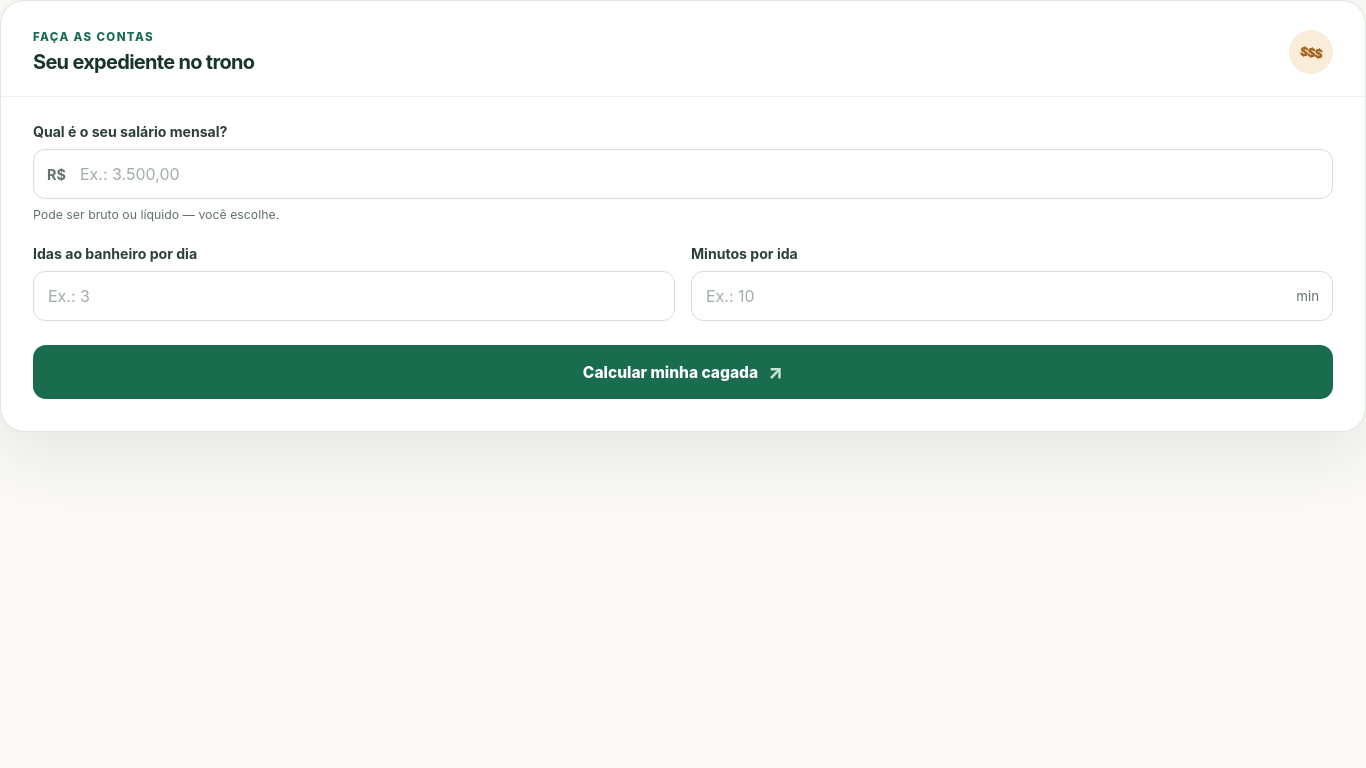
Test: Calculator › clears old results as soon as a field is edited
The image size is (1366, 768).
Type "3520" into the number field labelled "Qual é o seu salário mensal?" at x=683, y=174, box top-left (33, 149), bottom-right (1333, 199)
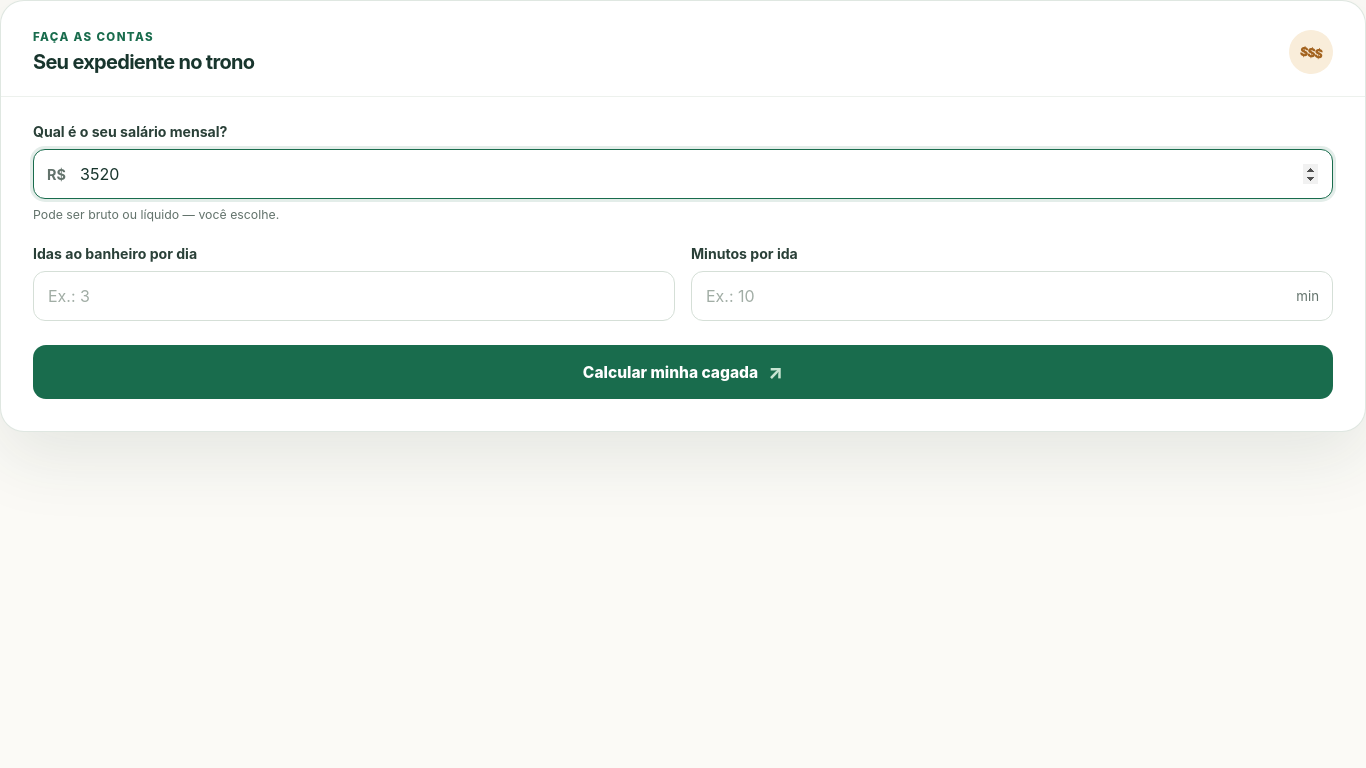
Type "2" into the number field labelled "Idas ao banheiro por dia" at x=354, y=296, box top-left (33, 271), bottom-right (675, 321)
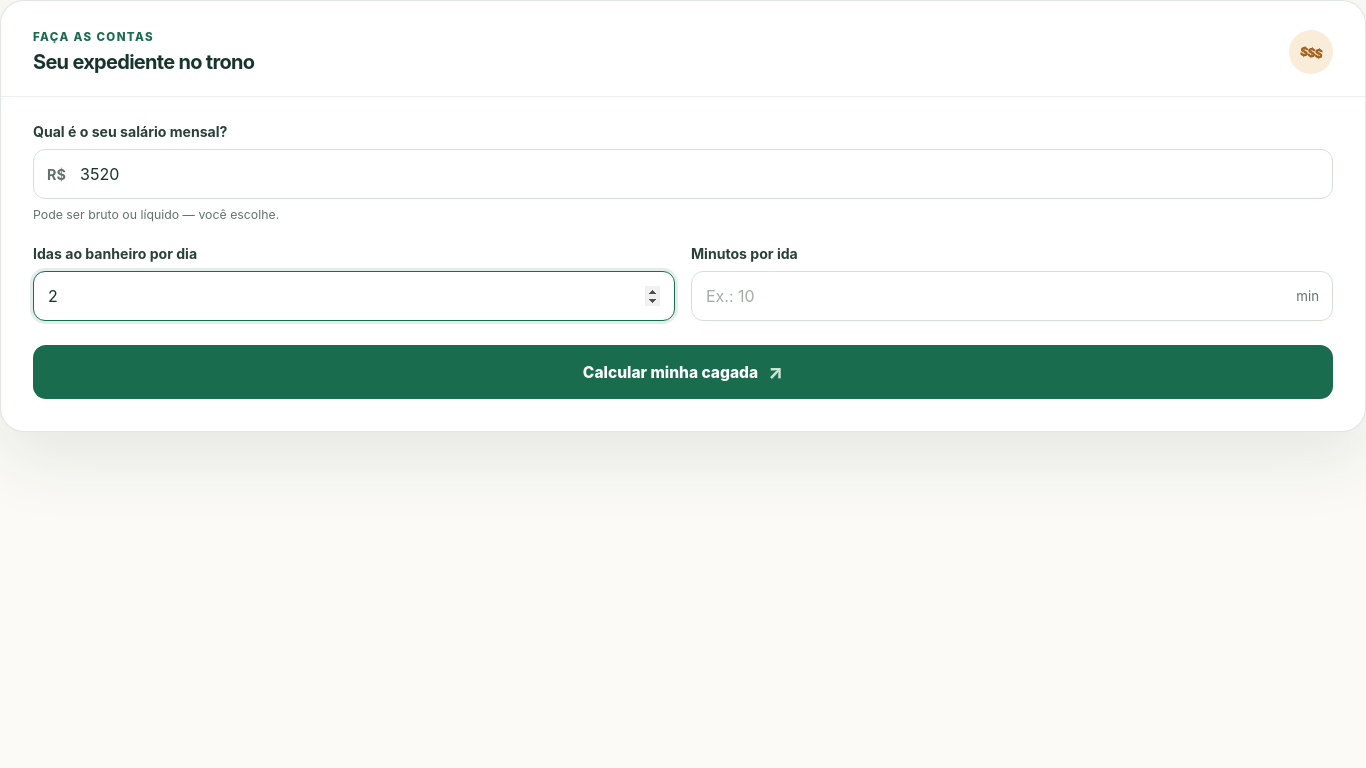
Type "15" into the number field labelled "Minutos por ida" at x=1012, y=296, box top-left (691, 271), bottom-right (1333, 321)
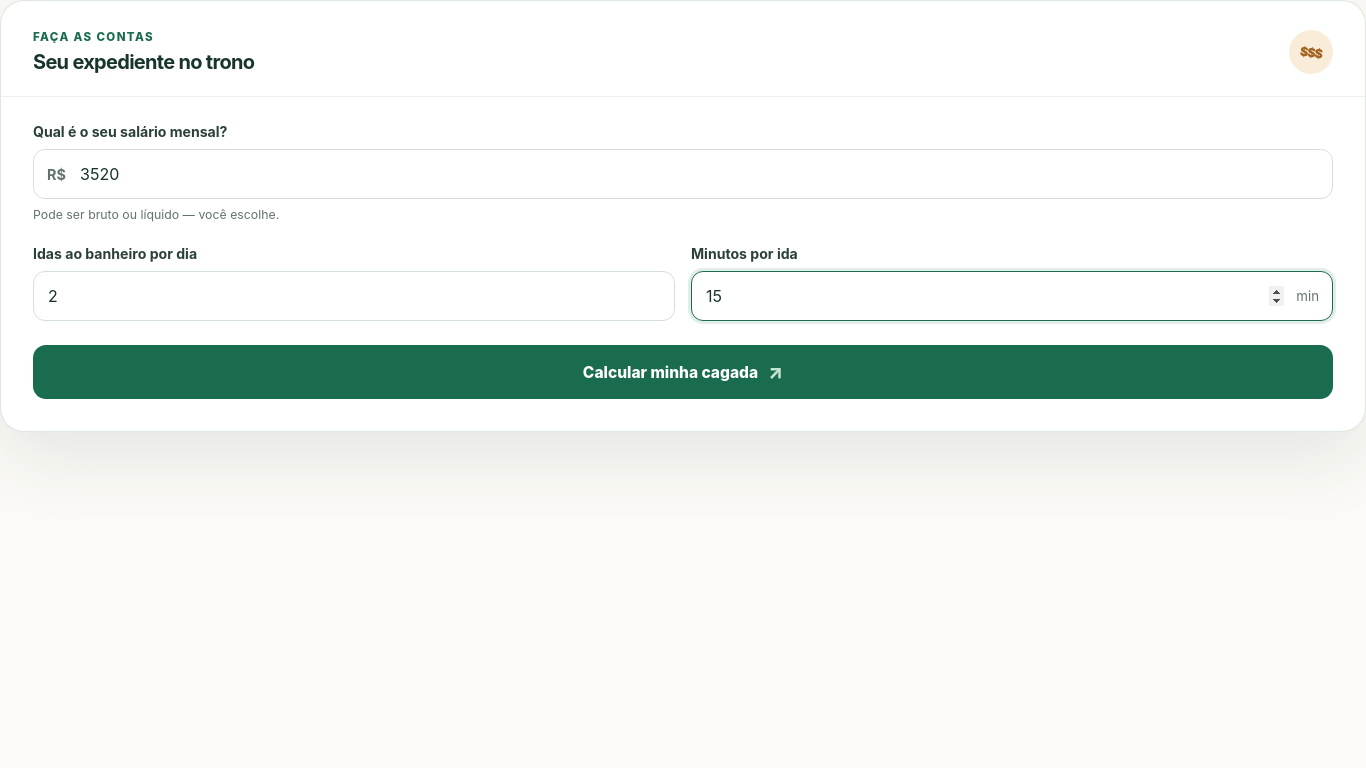
Click the button "Calcular minha cagada ↗" at x=683, y=372, box top-left (33, 345), bottom-right (1333, 399)
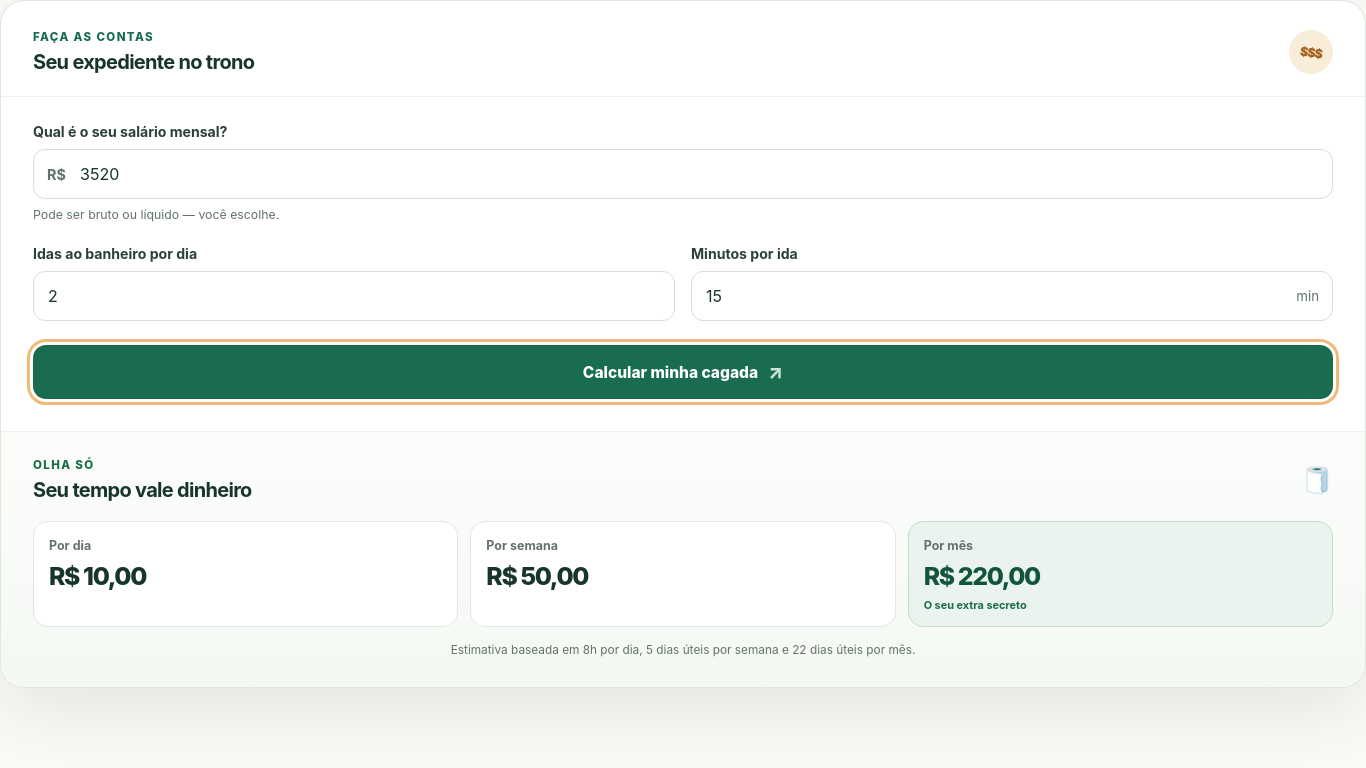
Expected: the heading "Seu tempo vale dinheiro" is shown, top-left (33, 478), bottom-right (252, 502)
Clear the number field labelled "Minutos por ida" at x=1012, y=296, box top-left (691, 271), bottom-right (1333, 321)
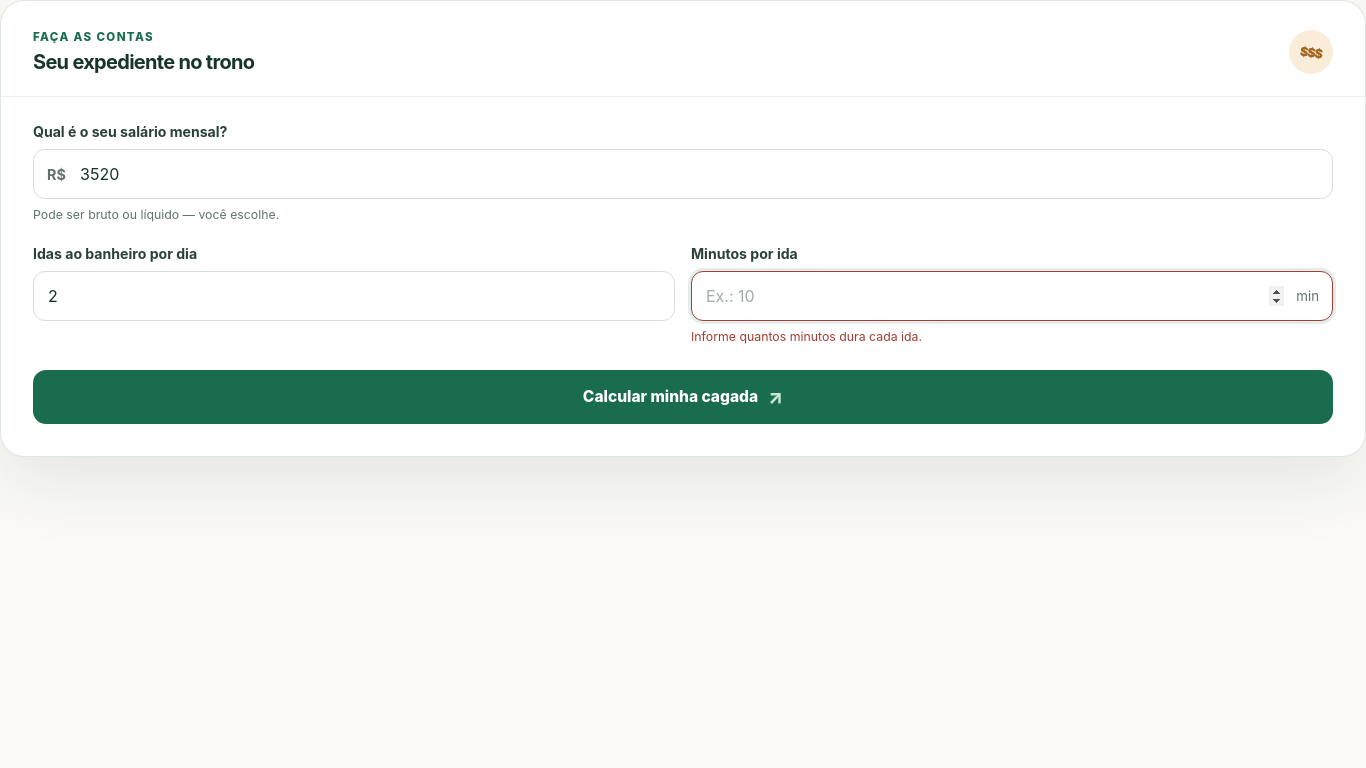
Expected: the heading "Seu tempo vale dinheiro" is gone
